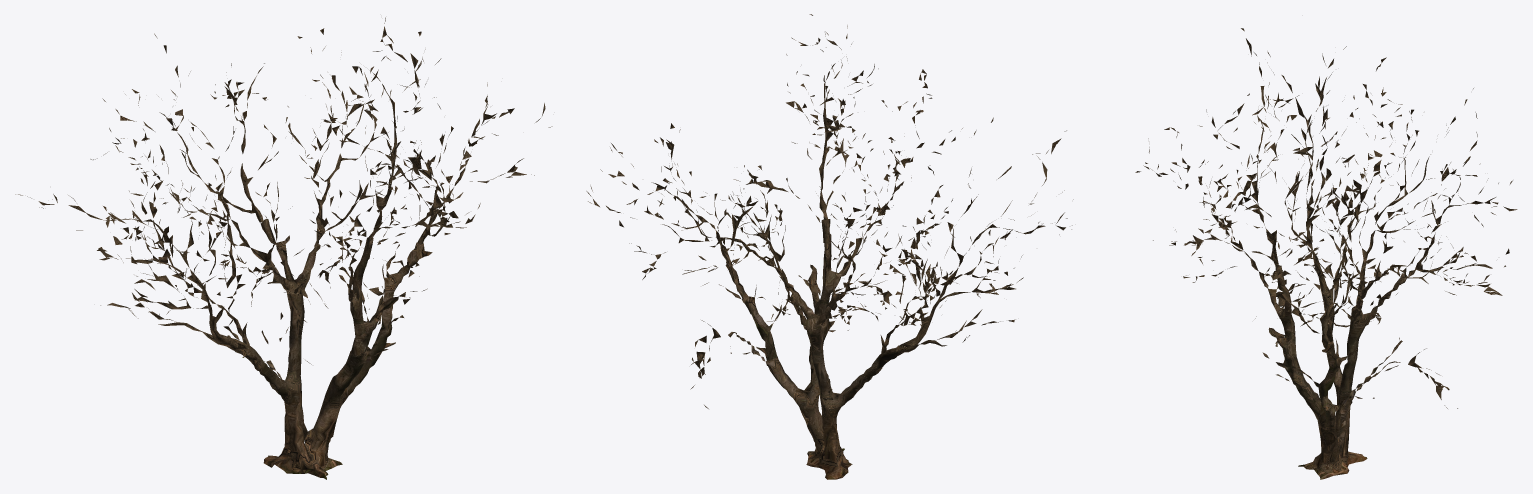
The model's file is jacaranda_L0_madera.glb.
3 views of the same model, side by side, from view 1: azimuth 30°, elevation 25°; view 2: azimuth 150°, elevation 25°; view 3: azimuth 270°, elevation 25° (orthographic). The views are drawn at different scales.
Parts seen in each view (by area): view 1: jacaranda_tree_LOD0; view 2: jacaranda_tree_LOD0; view 3: jacaranda_tree_LOD0.
Part boxes in pixels (left/top/right/bottom): jacaranda_tree_LOD0: left=15, top=17, right=552, bottom=479; jacaranda_tree_LOD0: left=586, top=14, right=1073, bottom=479; jacaranda_tree_LOD0: left=1135, top=28, right=1517, bottom=479.
Size of the model in its own units: 23.55 by 19.02 by 16.42.
Materials: 2 (2 with a texture image).
